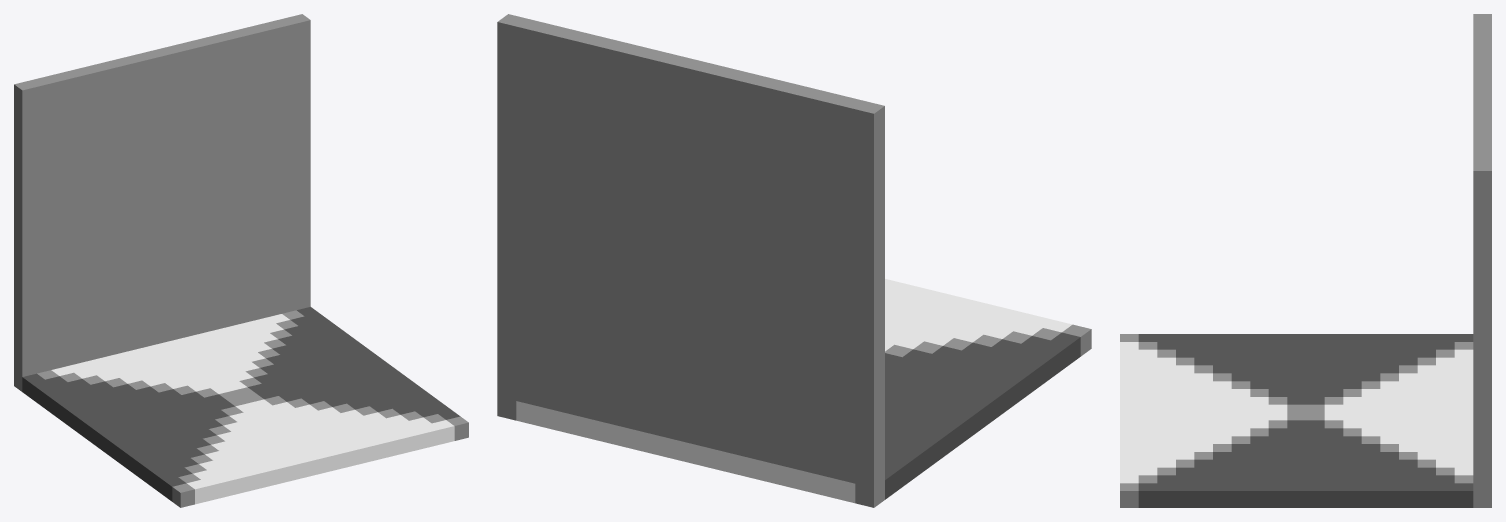
The model's file is Test Airport-1.obj.
The picture shows the model from 3 angles, left to right: view 1: azimuth 30°, elevation 25°; view 2: azimuth 150°, elevation 25°; view 3: azimuth 270°, elevation 25°; orthographic projection. The views are drawn at different scales.
Visible parts, largest first — view 1: Test Airport-1; view 2: Test Airport-1; view 3: Test Airport-1.
Part boxes in pixels (box(x1,y1,x2,y2)): Test Airport-1: box(14, 14, 468, 507); Test Airport-1: box(497, 14, 1091, 507); Test Airport-1: box(1120, 14, 1491, 507).
Size of the model in its own units: 20 by 20 by 20.
Materials: 1 (1 with a texture image).
